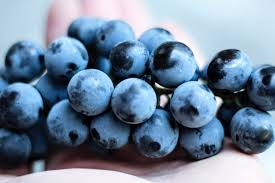Black grapes: (2, 18, 274, 162)
